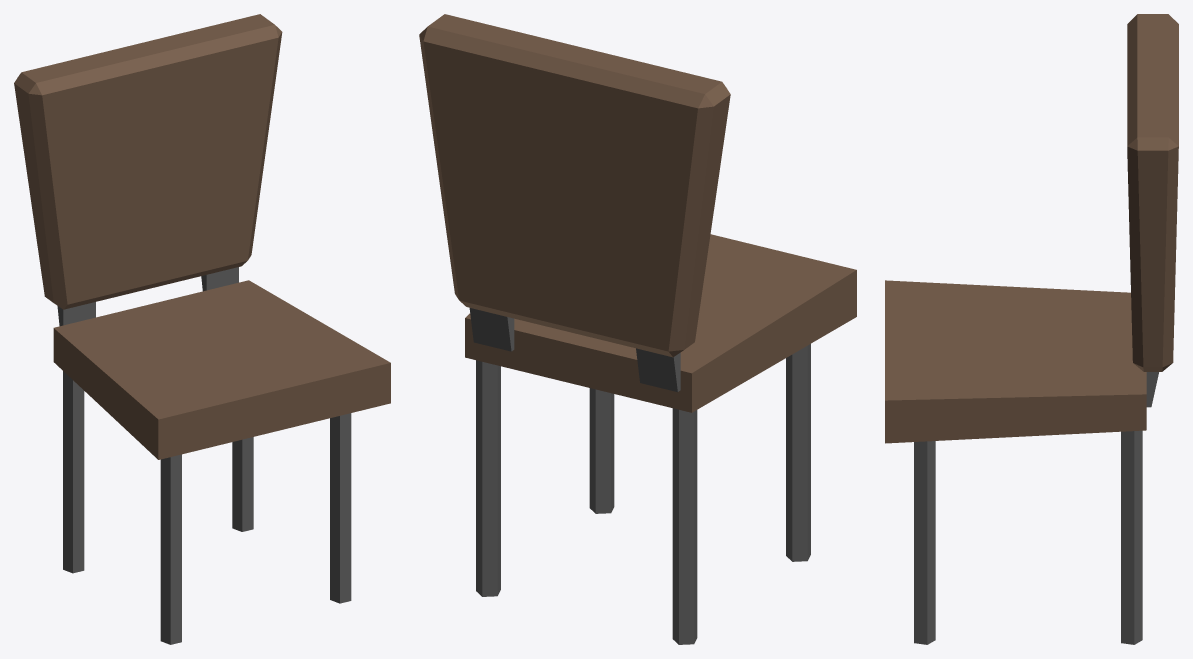
File: CHAIR.fbx
3 views of the same model, side by side, from view 1: azimuth 30°, elevation 25°; view 2: azimuth 150°, elevation 25°; view 3: azimuth 270°, elevation 25° (orthographic). The views are drawn at different scales.
Parts seen in each view (by area): view 1: Cube.001, Cube, Cylinder.003, Cylinder.001, Cylinder.002, Cylinder, Cube.002, Cube.003; view 2: Cube.001, Cube, Cylinder.003, Cylinder, Cylinder.002, Cylinder.001, Cube.002, Cube.003; view 3: Cube, Cube.001, Cylinder, Cylinder.001.
Boxes of the visible parts, x1,y1,x2,y2 form: Cube.001: (14,14,282,309); Cube: (53,280,390,459); Cylinder.003: (63,371,84,573); Cylinder.001: (330,413,351,603); Cylinder.002: (160,454,181,644); Cylinder: (232,437,253,531); Cube.002: (57,302,95,326); Cube.003: (201,267,238,291); Cube.001: (419,14,730,357); Cube: (465,234,856,412); Cylinder.003: (672,408,697,644); Cylinder: (476,360,500,596); Cylinder.002: (786,344,810,561); Cylinder.001: (589,388,614,513); Cube.002: (636,348,680,392); Cube.003: (469,308,514,351); Cube: (885,280,1146,443); Cube.001: (1127,14,1178,371); Cylinder: (1121,430,1142,644); Cylinder.001: (914,441,935,644).
Size of the model in its own units: 38.99 by 72.17 by 36.9.
